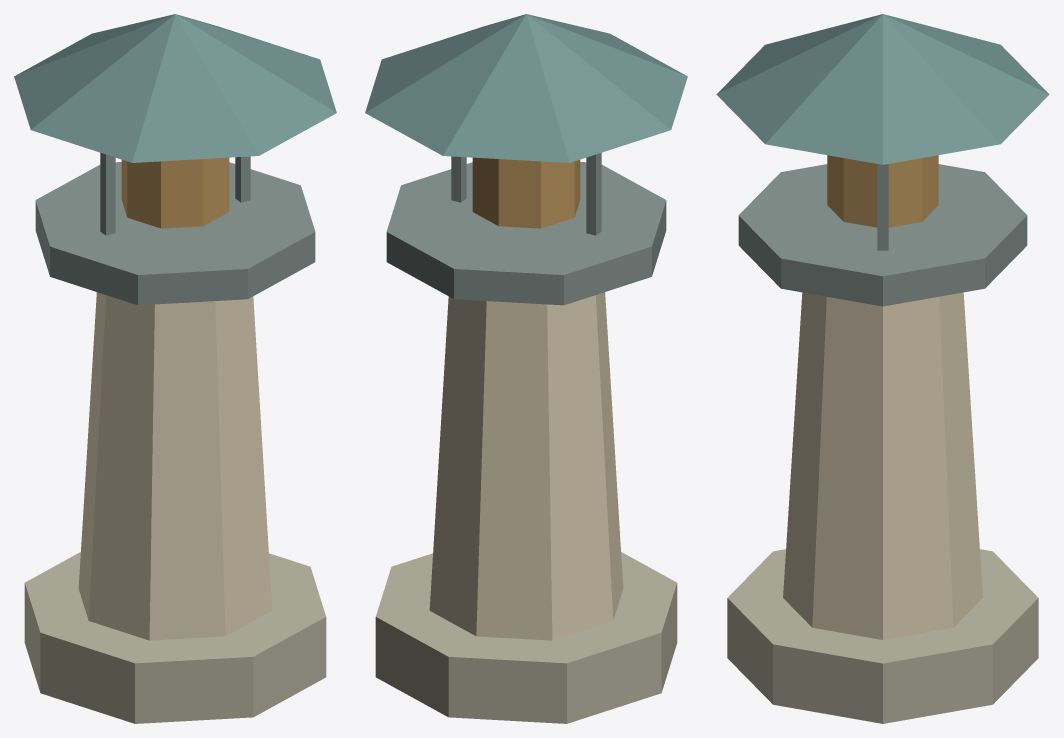
Rendered from beacon.glb.
The picture shows the model from 3 angles, left to right: view 1: azimuth 30°, elevation 25°; view 2: azimuth 150°, elevation 25°; view 3: azimuth 270°, elevation 25°; orthographic projection.
Parts seen in each view (by area): view 1: Building; view 2: Building; view 3: Building.
Part boxes in pixels (x1=…): Building: x1=14, y1=14, x2=336, y2=723; Building: x1=365, y1=14, x2=687, y2=723; Building: x1=716, y1=14, x2=1049, y2=723.
Size of the model in its own units: 30 by 64 by 30.
